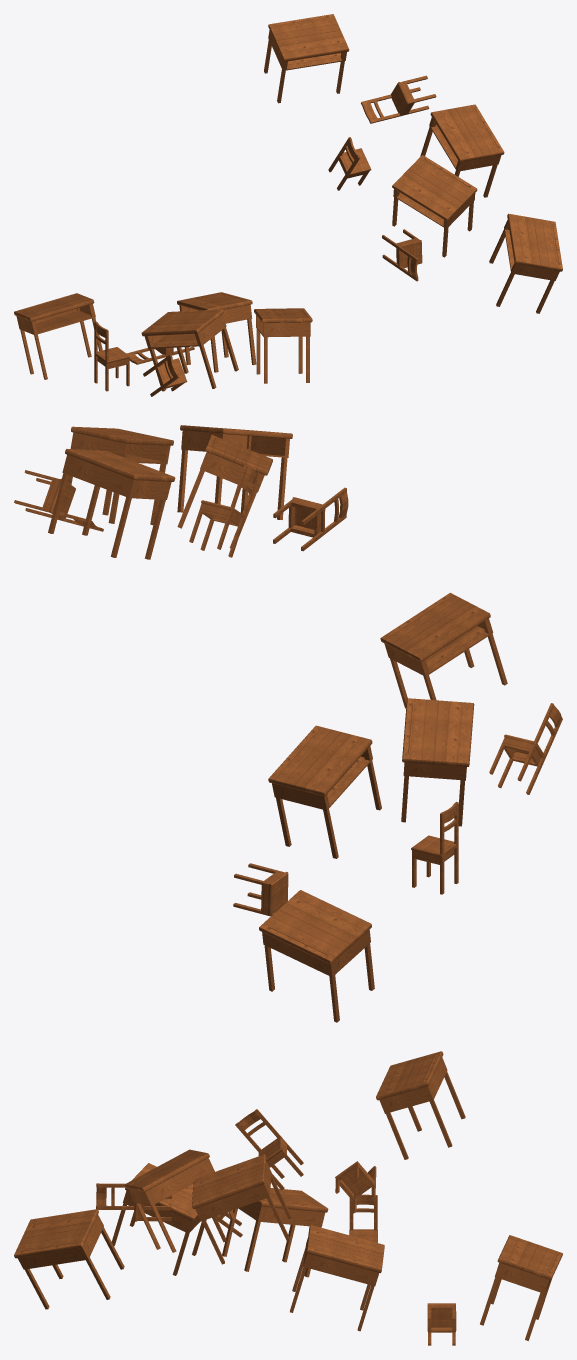
File: Random.fbx
The picture shows the model from 3 angles, top to bottom: view 1: azimuth 30°, elevation 25°; view 2: azimuth 150°, elevation 25°; view 3: azimuth 270°, elevation 25°; orthographic projection. The views are drawn at different scales.
Parts seen in each view (by area): view 1: ChairWooden.026, ChairWooden.024; view 2: ChairWooden.024, ChairWooden.026; view 3: ChairWooden.026, ChairWooden.024.
Part boxes in pixels (left/top/right/bottom): ChairWooden.026: left=264, top=14, right=562, bottom=313; ChairWooden.024: left=14, top=292, right=312, bottom=396; ChairWooden.024: left=233, top=592, right=562, bottom=1022; ChairWooden.026: left=14, top=425, right=348, bottom=559; ChairWooden.026: left=14, top=1051, right=465, bottom=1309; ChairWooden.024: left=111, top=1163, right=562, bottom=1345.
Size of the model in its own units: 6752 by 6424 by 8498.
2 materials, 2 textured.
